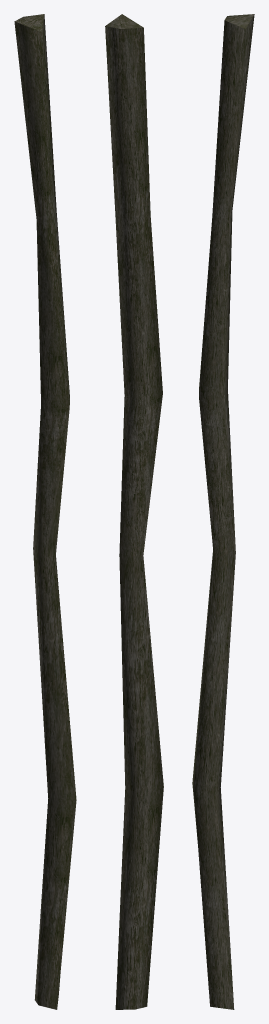
Rendered from TI_L_Branch_01.fbx.
3 views of the same model, side by side, from view 1: azimuth 90°, elevation 25°; view 2: azimuth 150°, elevation 25°; view 3: azimuth 270°, elevation 25° (orthographic).
Visible parts, largest first — view 1: TI_L_Branch_01; view 2: TI_L_Branch_01; view 3: TI_L_Branch_01.
Boxes of the visible parts, x1,y1,x2,y2 form: TI_L_Branch_01: (14,14,76,1009); TI_L_Branch_01: (105,14,163,1009); TI_L_Branch_01: (192,14,254,1009).
Bounding box in the file's own units: 0.2246 × 6.16 × 0.3512.
